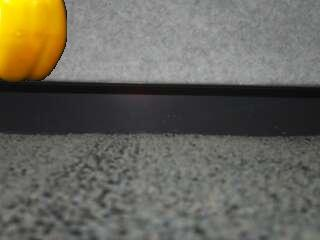Capsicum: (0, 0, 68, 83)
